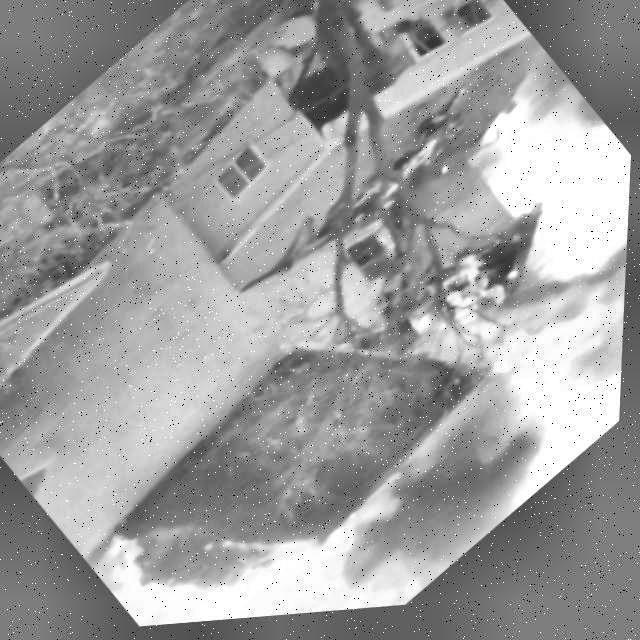Fire: (83, 371, 459, 633), (384, 170, 633, 487)
Smoke: (311, 364, 589, 619)
